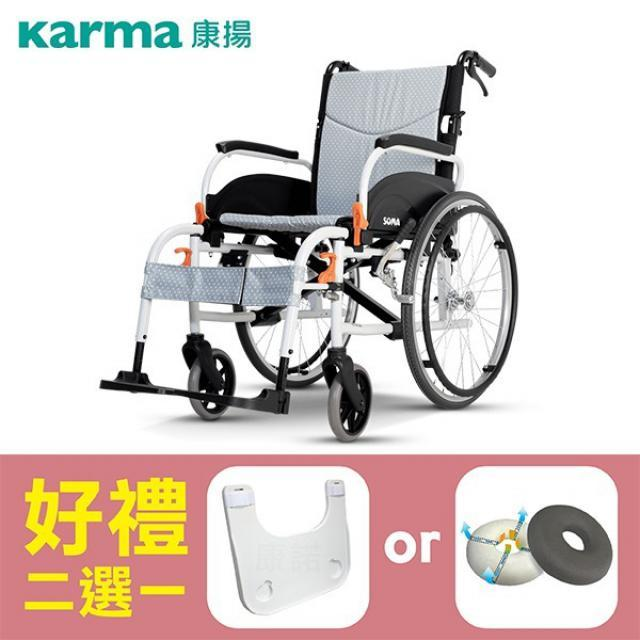wheelchair: (96, 48, 538, 449)
